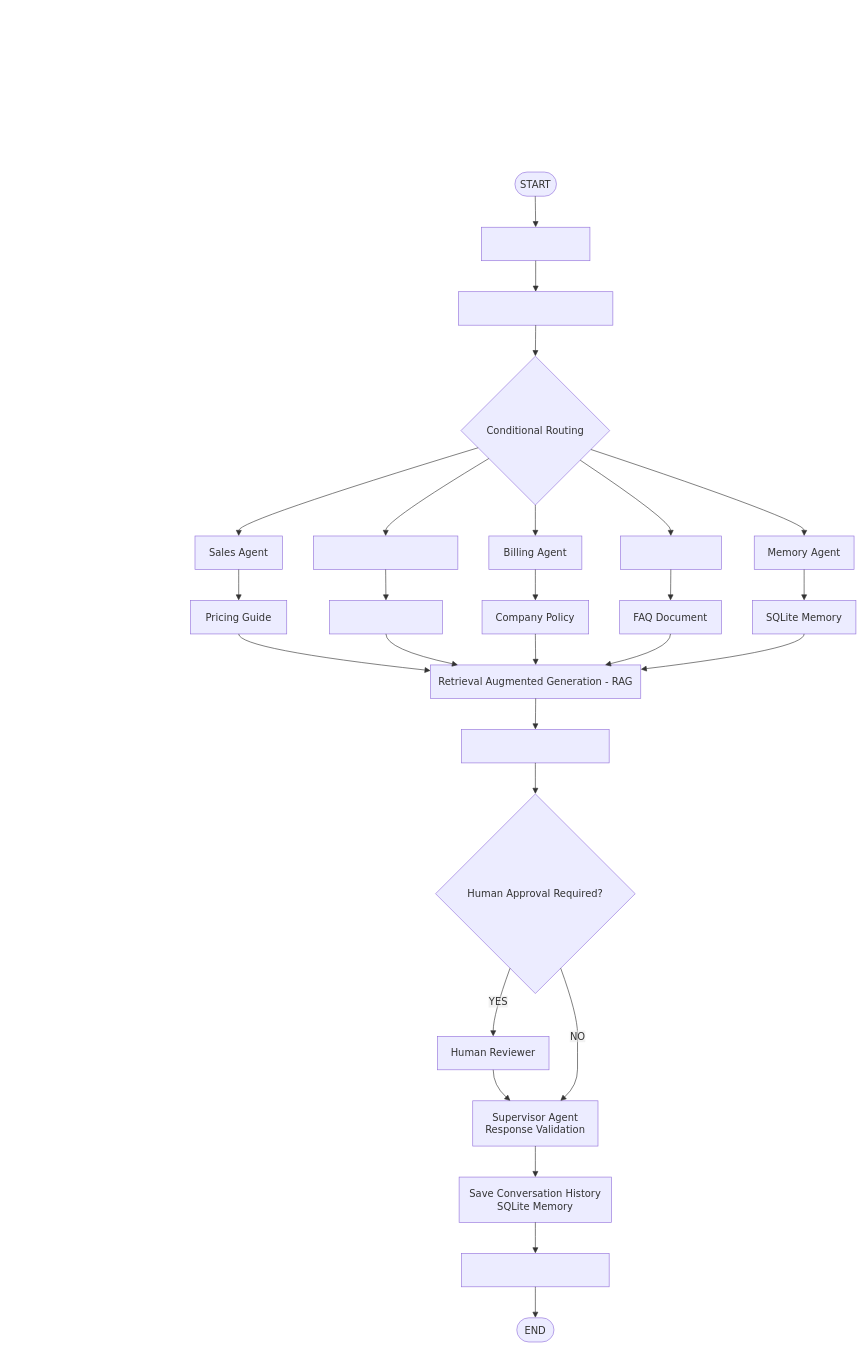
Some shapes in this 867 by 1353 pixel diagram are drawn without their labels. Here are the shapes that lost their labels. From the top down, the centre of each, then its label:
pixel 535 244: Customer Query
pixel 535 308: Intent Classification Agent
pixel 385 552: Technical Support Agent
pixel 670 552: Account Agent
pixel 385 617: Technical Manual
pixel 535 746: Generate Draft Response
pixel 535 1270: Final Customer Response
